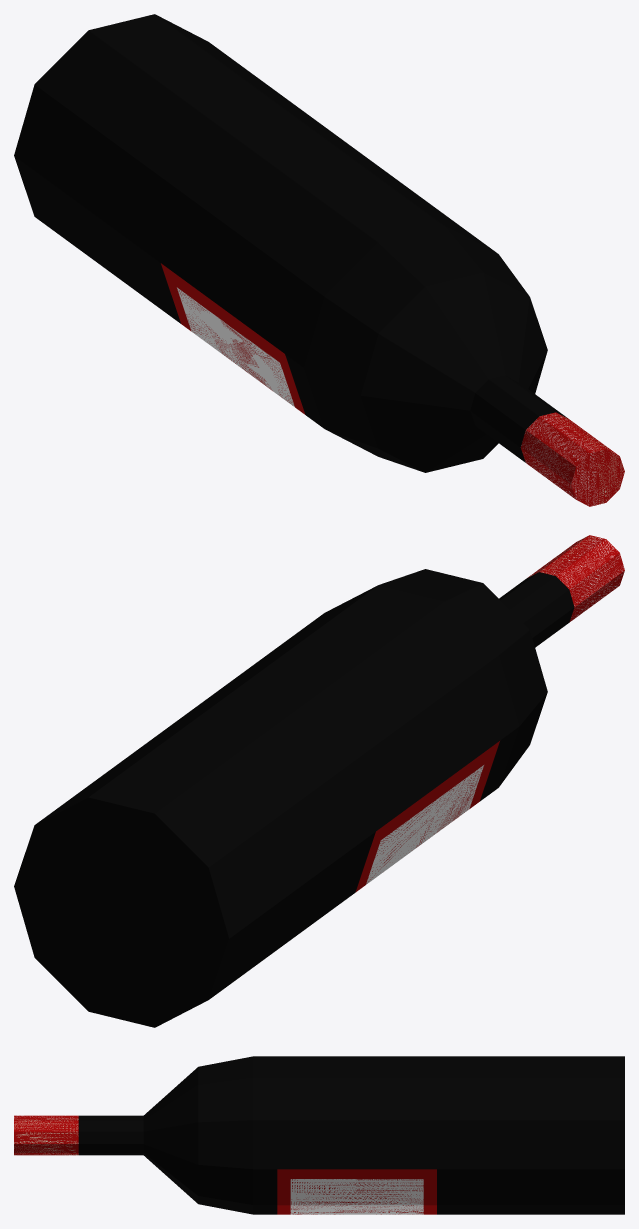
3 views of the same model, one above another, from view 1: azimuth 30°, elevation 25°; view 2: azimuth 150°, elevation 25°; view 3: azimuth 270°, elevation 25° (orthographic). The views are drawn at different scales.
Visible parts, largest first — view 1: wine bottle; view 2: wine bottle; view 3: wine bottle.
Boxes of the visible parts, x1,y1,x2,y2 form: wine bottle: [14, 14, 624, 506]; wine bottle: [14, 535, 624, 1027]; wine bottle: [14, 1056, 624, 1214].
Bounding box in the file's own units: 3 × 2.85 × 11.5.
